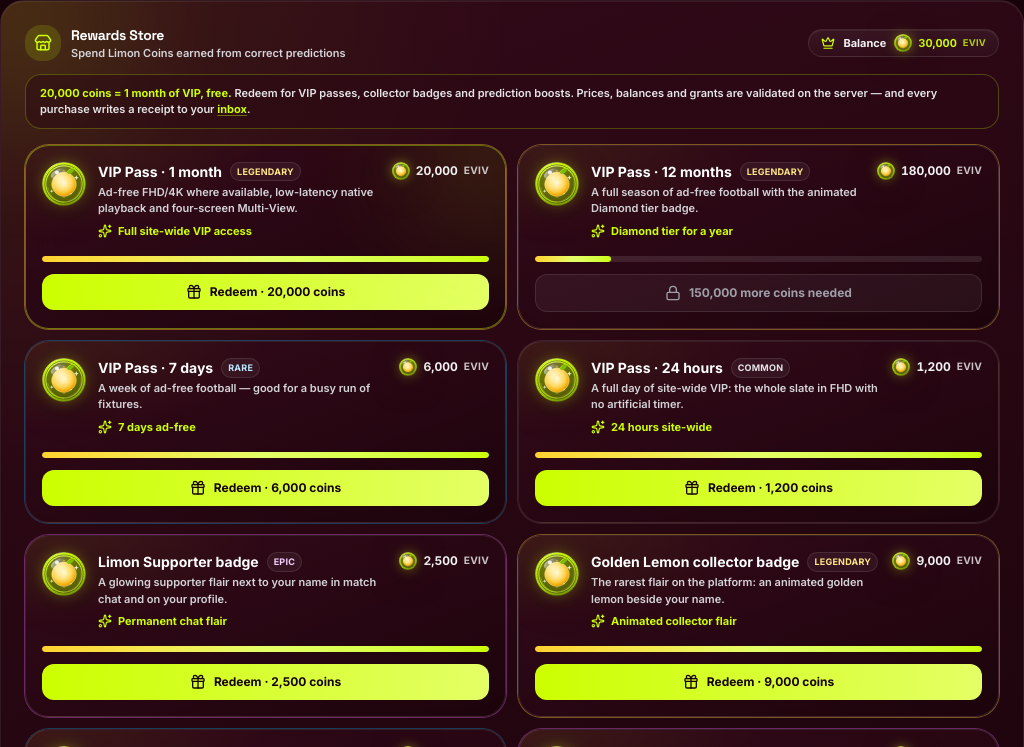
Test: Rewards Store › surfaces a server refusal instead of pretending the redemption worked
Step 1. Click the button "Redeem · 20,000 coins" → (266, 292), box [42,274,489,310]
(page scrolled)
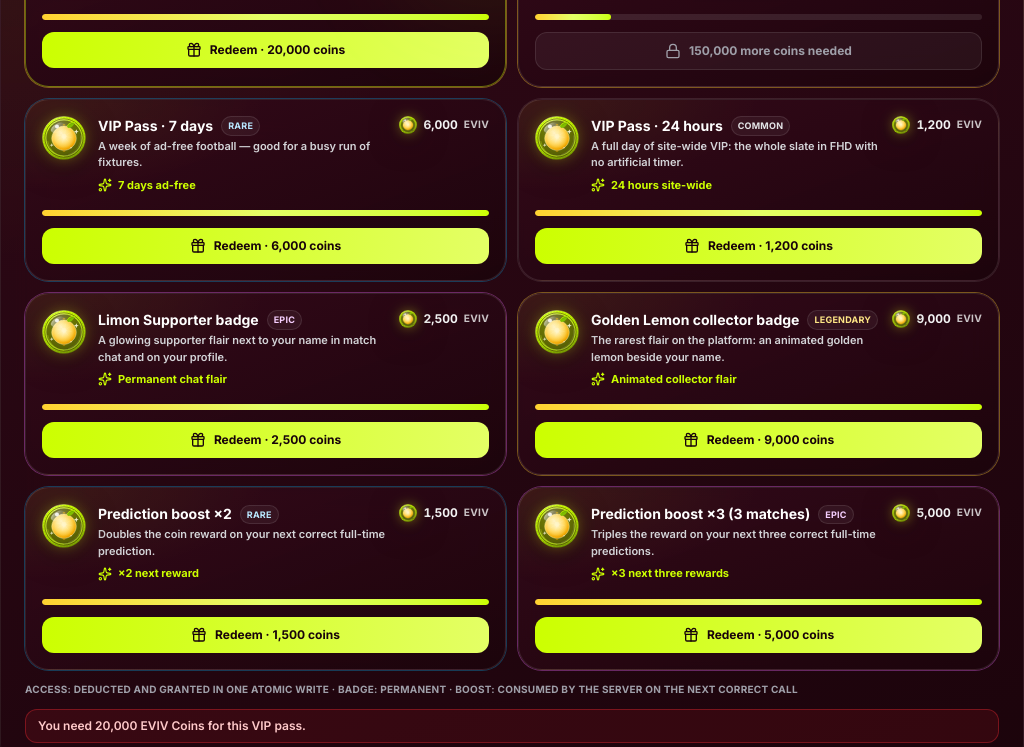
Expected: the message "You need 20,000 EVIV Coins for this VIP pass." is shown, [25,708,999,742]
